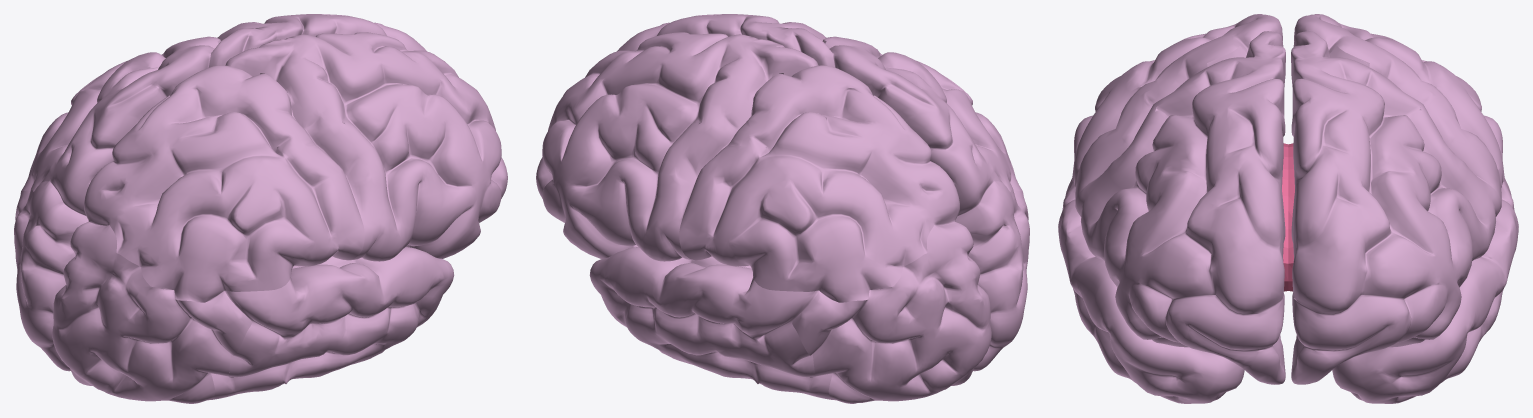
The model's file is pink_brain.glb.
The picture shows the model from 3 angles, left to right: view 1: azimuth 30°, elevation 25°; view 2: azimuth 150°, elevation 25°; view 3: azimuth 270°, elevation 25°; orthographic projection. The views are drawn at different scales.
Parts seen in each view (by area): view 1: pariet, frontal, occipit, temp; view 2: pariet, frontal, occipit, temp; view 3: frontal, temp, pariet, corpus.
Boxes of the visible parts, left/top/right/bottom form: pariet: left=21, top=36, right=364, bottom=302; frontal: left=209, top=14, right=507, bottom=261; occipit: left=14, top=181, right=251, bottom=403; temp: left=208, top=247, right=454, bottom=400; pariet: left=679, top=36, right=1022, bottom=302; frontal: left=536, top=14, right=834, bottom=261; occipit: left=792, top=181, right=1029, bottom=403; temp: left=589, top=247, right=835, bottom=400; frontal: left=1075, top=31, right=1501, bottom=384; temp: left=1058, top=178, right=1518, bottom=403; pariet: left=1072, top=14, right=1504, bottom=204; corpus: left=1282, top=143, right=1294, bottom=291.
Bounding box in the file's own units: 81.44 × 53.15 × 67.19.
